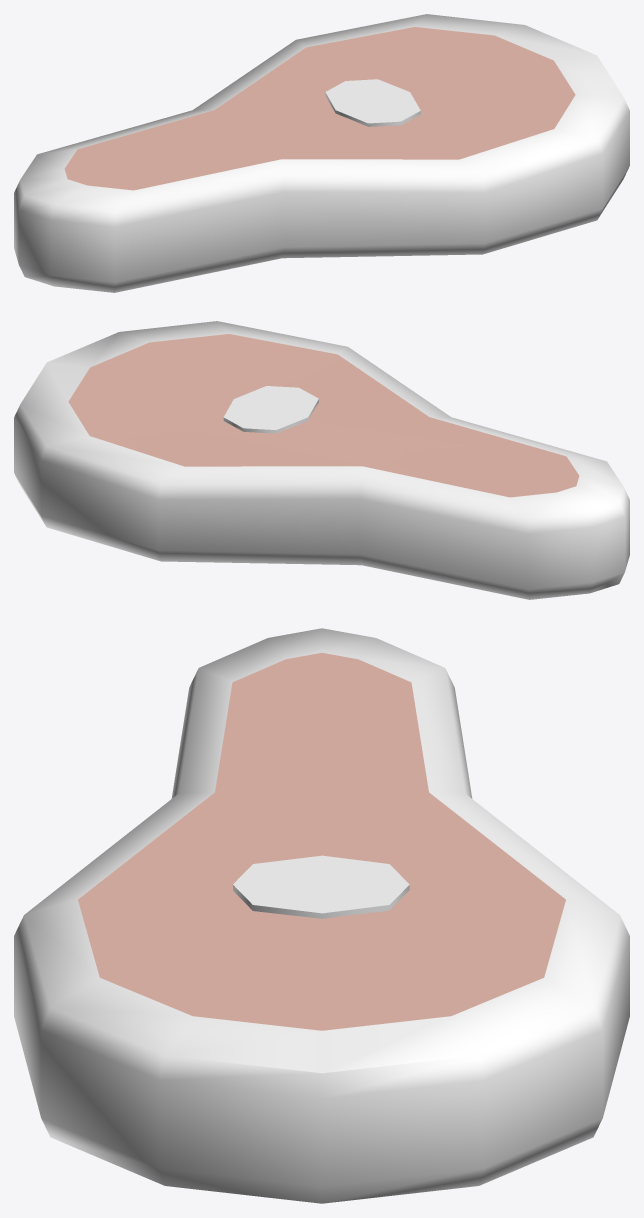
Rendered from Meat2.fbx.
3 renders of one model, top to bottom at view 1: azimuth 30°, elevation 25°; view 2: azimuth 150°, elevation 25°; view 3: azimuth 270°, elevation 25°, orthographic. The views are drawn at different scales.
Visible parts, largest first — view 1: Body, Raw; view 2: Body, Raw; view 3: Body, Raw.
Part boxes in pixels (x1,y1,x2,y2): Body: (14,14,629,292); Raw: (64,27,575,190); Body: (14,321,629,599); Raw: (68,334,579,497); Body: (14,628,629,1203); Raw: (78,653,565,1030).
Bounding box in the file's own units: 0.345 × 0.0564 × 0.1979.
